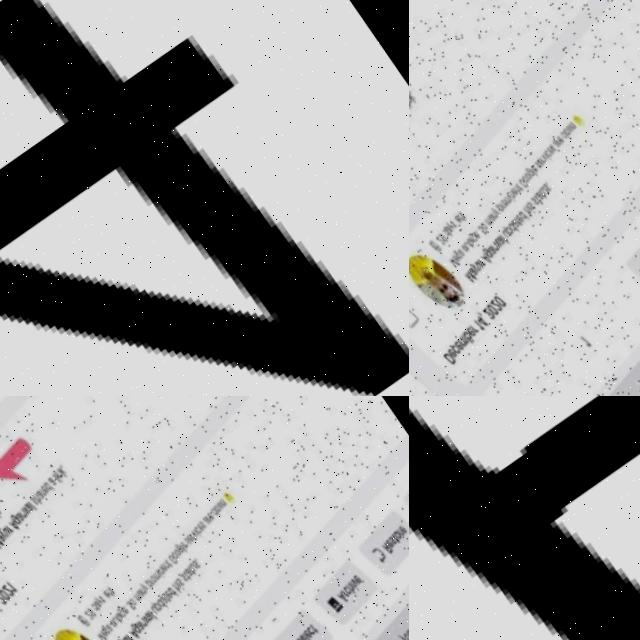0: (478, 306, 494, 325), (486, 298, 501, 317), (0, 588, 7, 607)
1: (466, 322, 479, 340), (0, 582, 13, 600), (572, 342, 585, 357)
2: (474, 310, 490, 329), (482, 302, 498, 321), (0, 585, 10, 604), (429, 239, 441, 252), (78, 614, 89, 627)
4: (467, 317, 483, 336)
9: (430, 234, 445, 250), (80, 610, 92, 625)
P: (409, 396, 640, 640)
